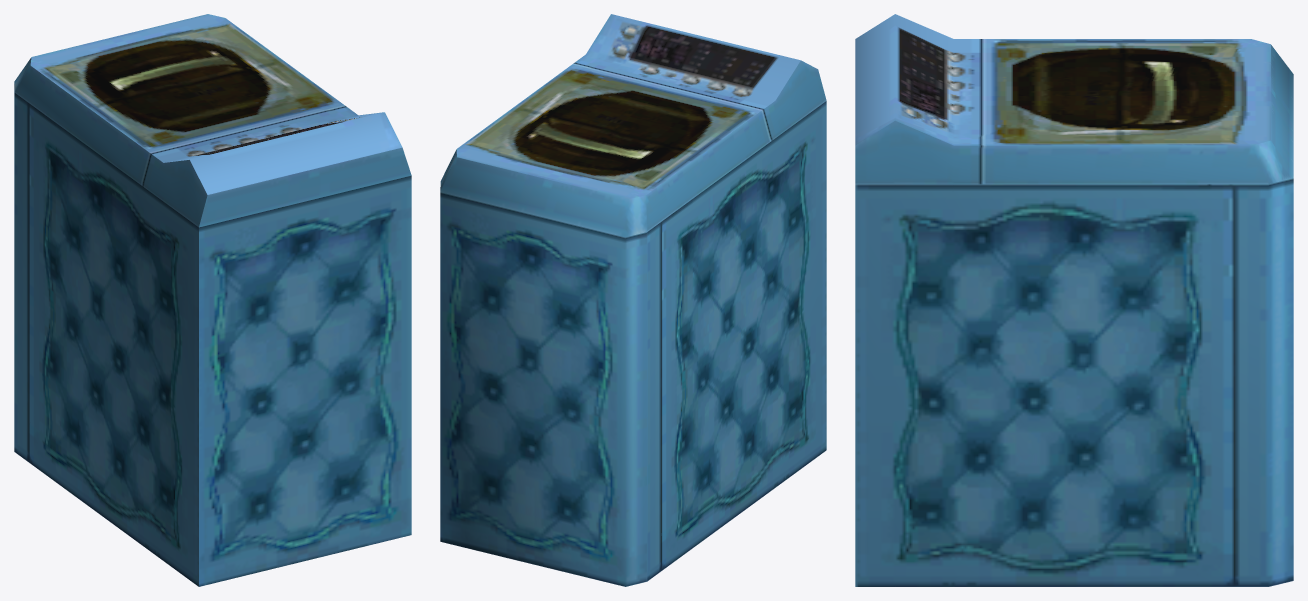
Rendered from furni_0200026_03.FBX.
3 views of the same model, side by side, from view 1: azimuth 30°, elevation 25°; view 2: azimuth 150°, elevation 25°; view 3: azimuth 270°, elevation 25° (orthographic). The views are drawn at different scales.
Visible parts, largest first — view 1: furni_0200026_03; view 2: furni_0200026_03; view 3: furni_0200026_03.
Boxes of the visible parts, x1,y1,x2,y2 form: furni_0200026_03: (14, 14, 411, 586); furni_0200026_03: (440, 14, 826, 586); furni_0200026_03: (855, 14, 1293, 586).
Size of the model in its own units: 45.7 by 84.56 by 72.8.
